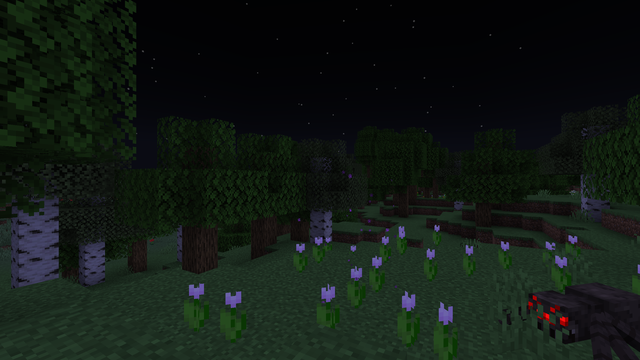araignees: (516, 268, 638, 358)
